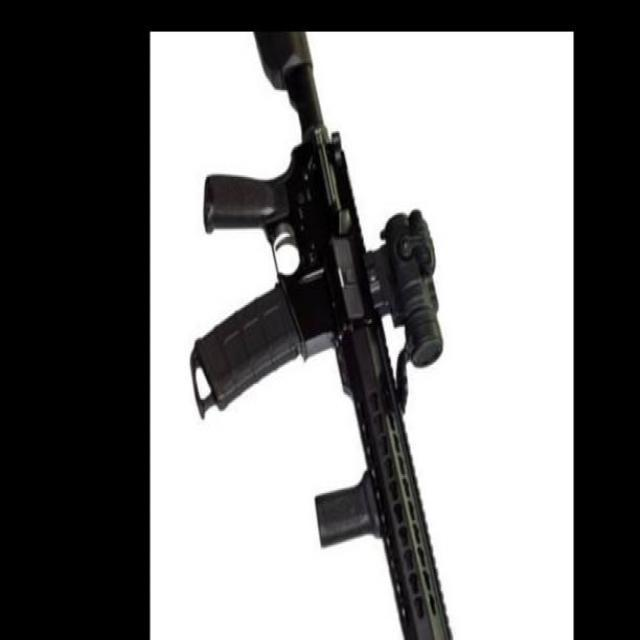weapon: (189, 31, 453, 640)
